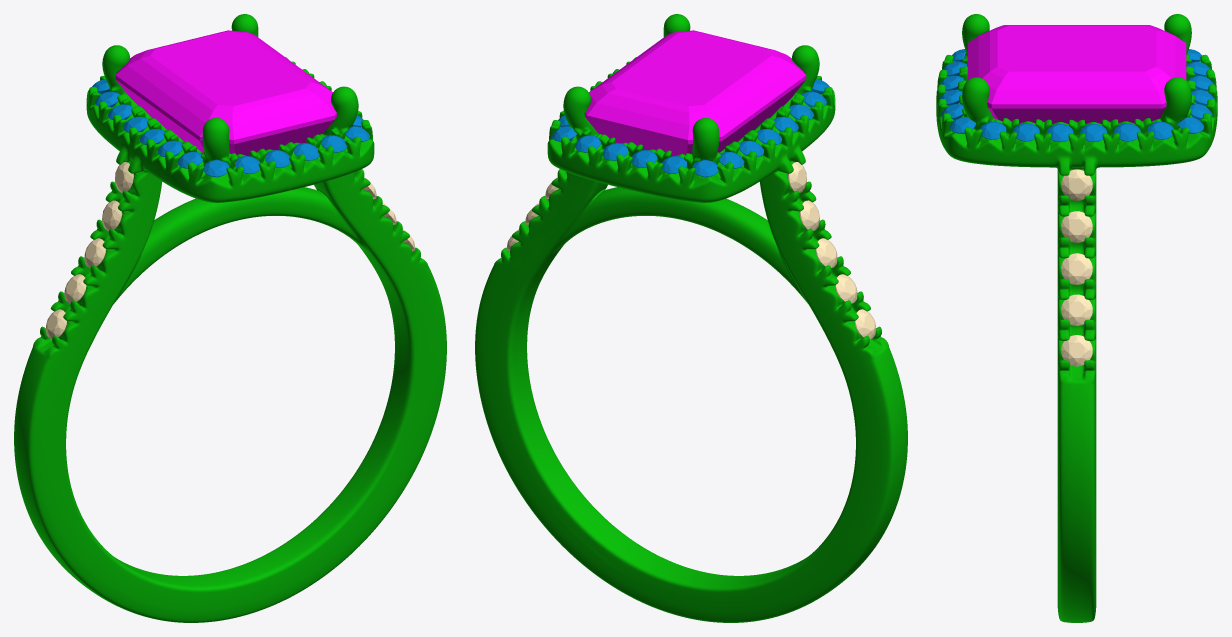
Rendered from BE1D32H_EM_200ct_RENDER.glb.
3 views of the same model, side by side, from view 1: azimuth 30°, elevation 25°; view 2: azimuth 150°, elevation 25°; view 3: azimuth 270°, elevation 25° (orthographic).
Parts seen in each view (by area): view 1: Metal 01, CS_Diamond_Emerald; view 2: Metal 01, CS_Diamond_Emerald; view 3: Metal 01, CS_Diamond_Emerald, Diamond_Round_Gem_SH.003, Diamond_Round_Gem_SH.002, Diamond_Round_Gem_SH.004, Diamond_Round_Gem_SH.001, Diamond_Round_Gem_SH.
Boxes of the visible parts, box(x1,y1,x2,y2) form: Metal 01: box(14, 14, 446, 622); CS_Diamond_Emerald: box(115, 30, 336, 156); Metal 01: box(475, 14, 907, 622); CS_Diamond_Emerald: box(585, 30, 806, 156); Metal 01: box(936, 14, 1217, 622); CS_Diamond_Emerald: box(967, 25, 1186, 123); Diamond_Round_Gem_SH.003: box(1061, 211, 1092, 242); Diamond_Round_Gem_SH.002: box(1061, 253, 1092, 284); Diamond_Round_Gem_SH.004: box(1061, 169, 1092, 200); Diamond_Round_Gem_SH.001: box(1061, 294, 1092, 325); Diamond_Round_Gem_SH: box(1061, 335, 1092, 366).
Bounding box in the file's own units: 20.25 × 25.11 × 11.58.
